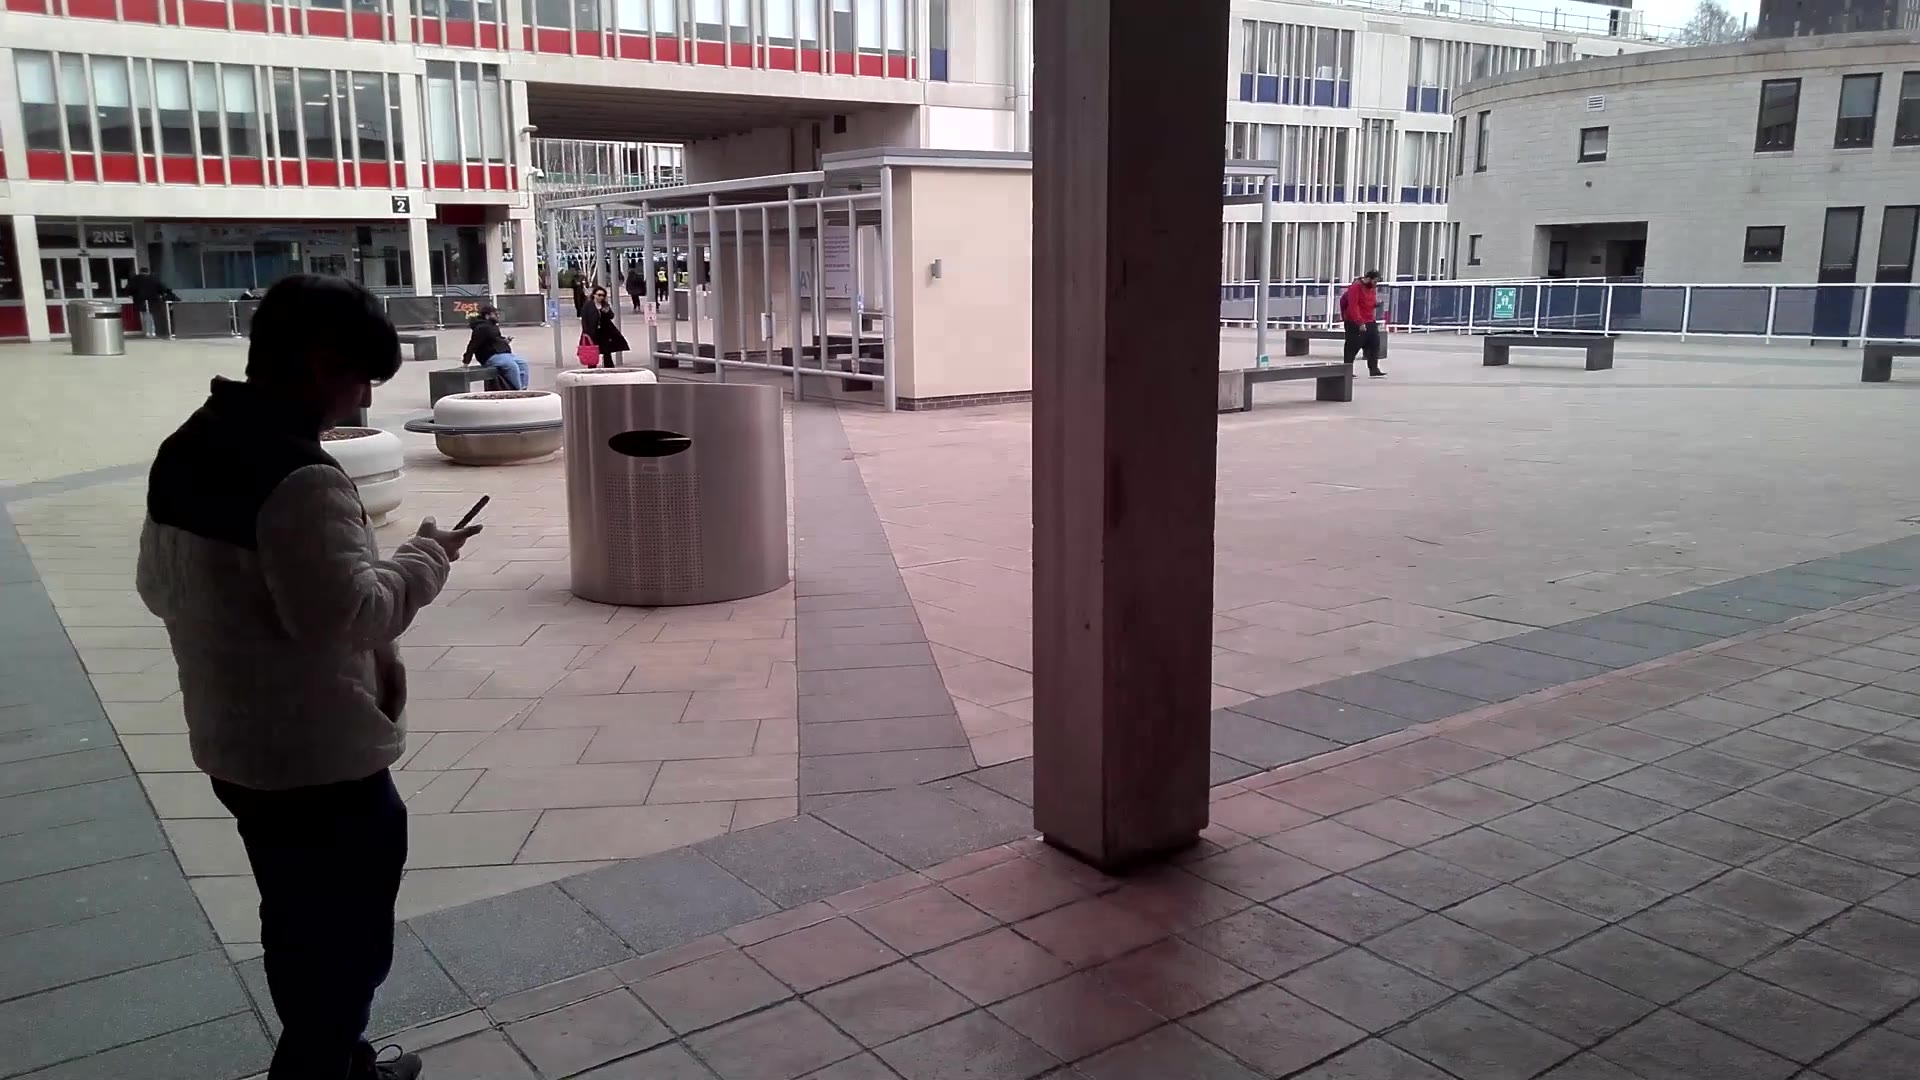Bench: (1477, 327, 1621, 379), (1224, 363, 1369, 413), (425, 359, 530, 401)
Bin: (562, 375, 800, 595), (65, 298, 125, 362)
Person: (178, 278, 444, 1080), (1341, 265, 1401, 382), (576, 285, 638, 369), (470, 306, 532, 387)
